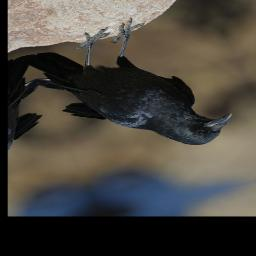Crow: (19, 5, 246, 173)
